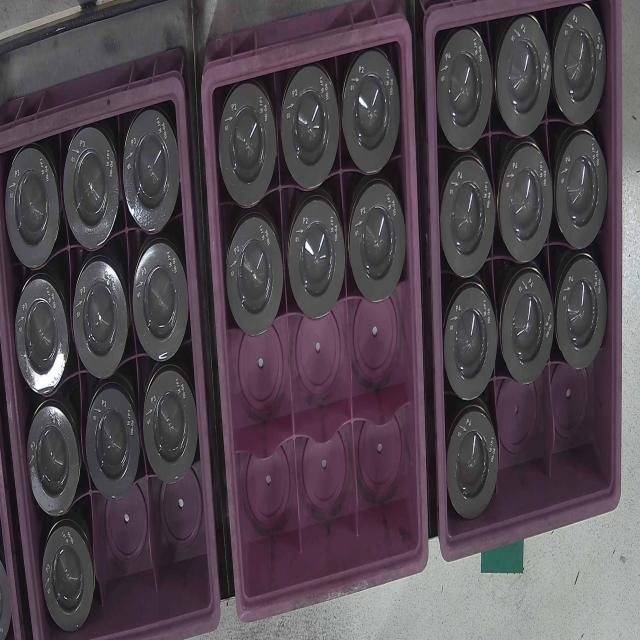P2: (214, 87, 278, 210), (341, 54, 401, 175), (287, 201, 346, 320), (280, 74, 340, 190), (226, 216, 284, 335), (348, 185, 406, 302)
P3: (12, 276, 70, 395), (23, 405, 84, 517), (3, 149, 61, 266), (132, 244, 189, 360), (143, 366, 199, 482), (122, 124, 182, 232), (63, 133, 119, 248), (74, 260, 127, 380), (85, 389, 142, 498), (40, 526, 96, 635)
P4: (434, 31, 493, 152), (554, 136, 611, 254), (440, 163, 494, 284), (553, 13, 610, 126), (496, 22, 551, 136), (442, 290, 496, 400), (501, 147, 552, 263), (500, 278, 554, 387), (556, 264, 608, 372), (448, 409, 498, 521)
